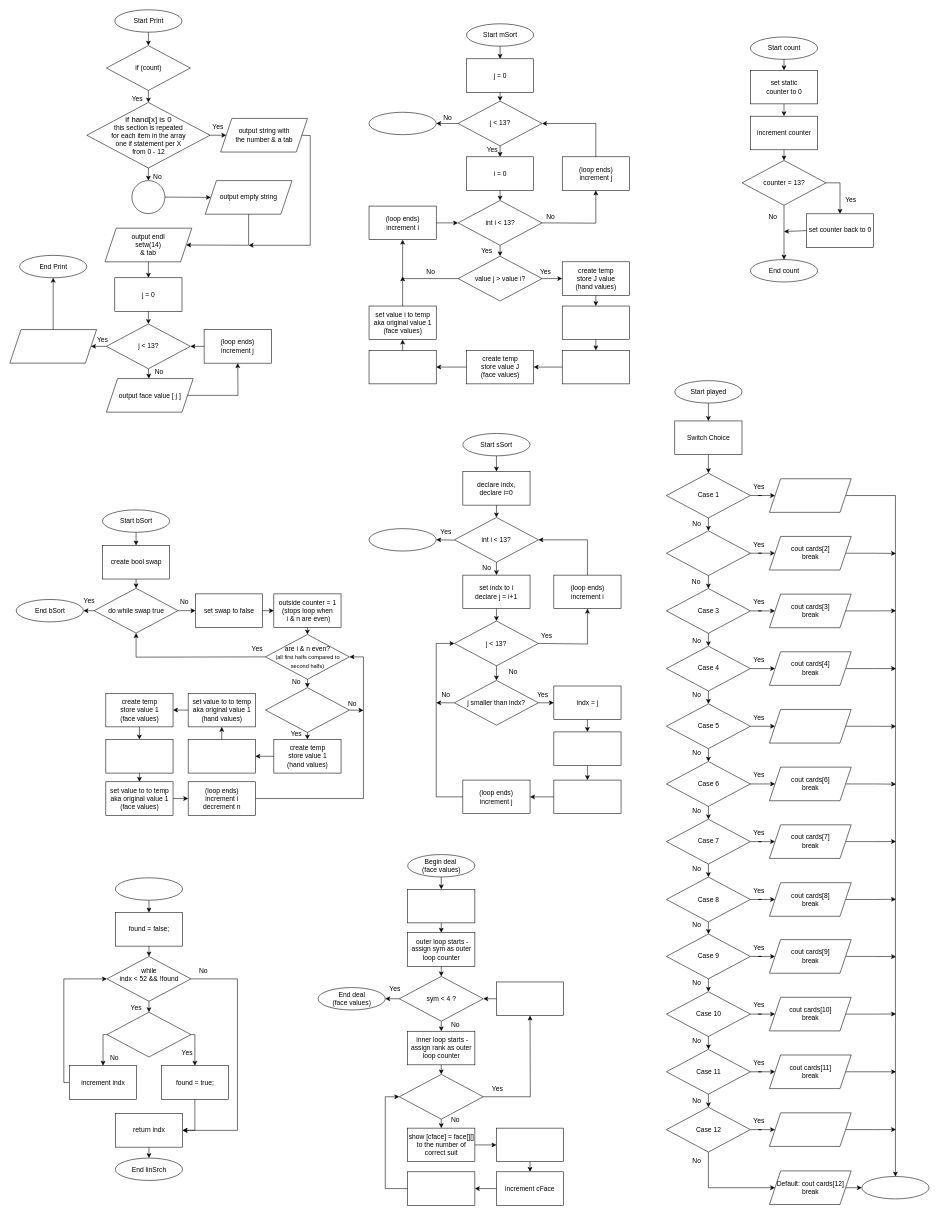
Image size: 939x1215. Some labels were removed from this diagram. The shapes that lost their labels are listed below. From the top down, each one's centre as x and y in pixels, then its label:
At pixel 402 123: "End mSort".
At pixel 148 197: "else".
At pixel 595 322: "set value J to value i (hand values)".
At pixel 53 346: "output endl".
At pixel 402 367: "set value J to value i (face values)".
At pixel 595 367: "set value i to to temp aka original value J (hand values)".
At pixel 810 495: "cout cards[1] break".
At pixel 402 539: "End sSort".
At pixel 708 553: "Case 2".
At pixel 307 709: "value 1 > value 2?".
At pixel 810 726: "cout cards[5] break".
At pixel 139 756: "set value 1 to value 2 (face values)".
At pixel 221 756: "set value 1 to value 2 (hand values)".
At pixel 587 748: "swap() hand[i] & hand[indx]".
At pixel 587 797: "swap() deck[i] & deck[indx]".
At pixel 149 888: "Start linSrch".
At pixel 441 906: "assign cFace as counter outside all loops".
At pixel 530 998: "(loop ends) increment sym".
At pixel 148 1034: "deck[indx] == 1?".
At pixel 441 1096: "rank < 13?".
At pixel 530 1145: "show [cface] += suit[sym] to add the icon".
At pixel 810 1129: "cout cards[12] break".
At pixel 441 1188: "(loop ends) increment rank".
At pixel 895 1187: "End played".
